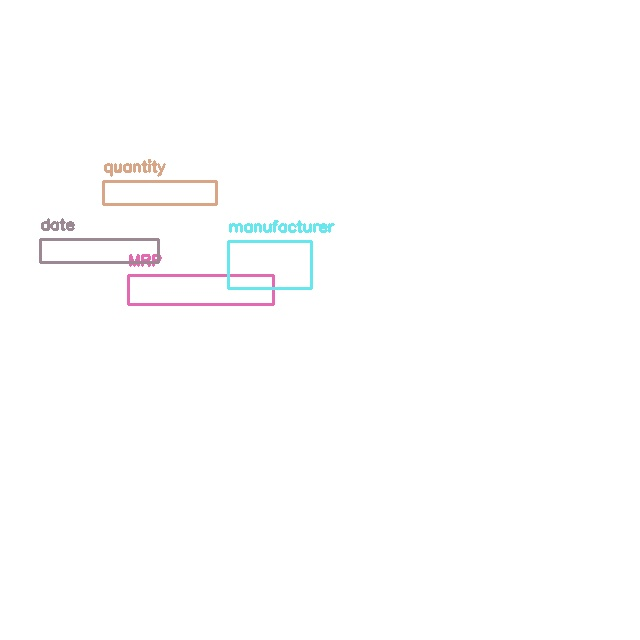MRP: (128, 275, 273, 304)
date: (40, 239, 158, 262)
manufacturer: (228, 241, 311, 288)
quantity: (103, 181, 216, 204)
